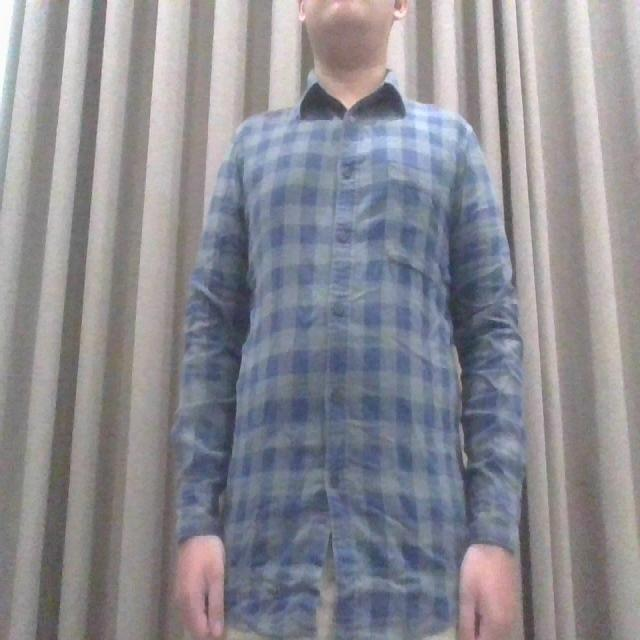long_Sleeve_shirt: (170, 83, 525, 640)
